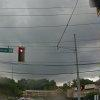Traffic light: (15, 40, 22, 63)
